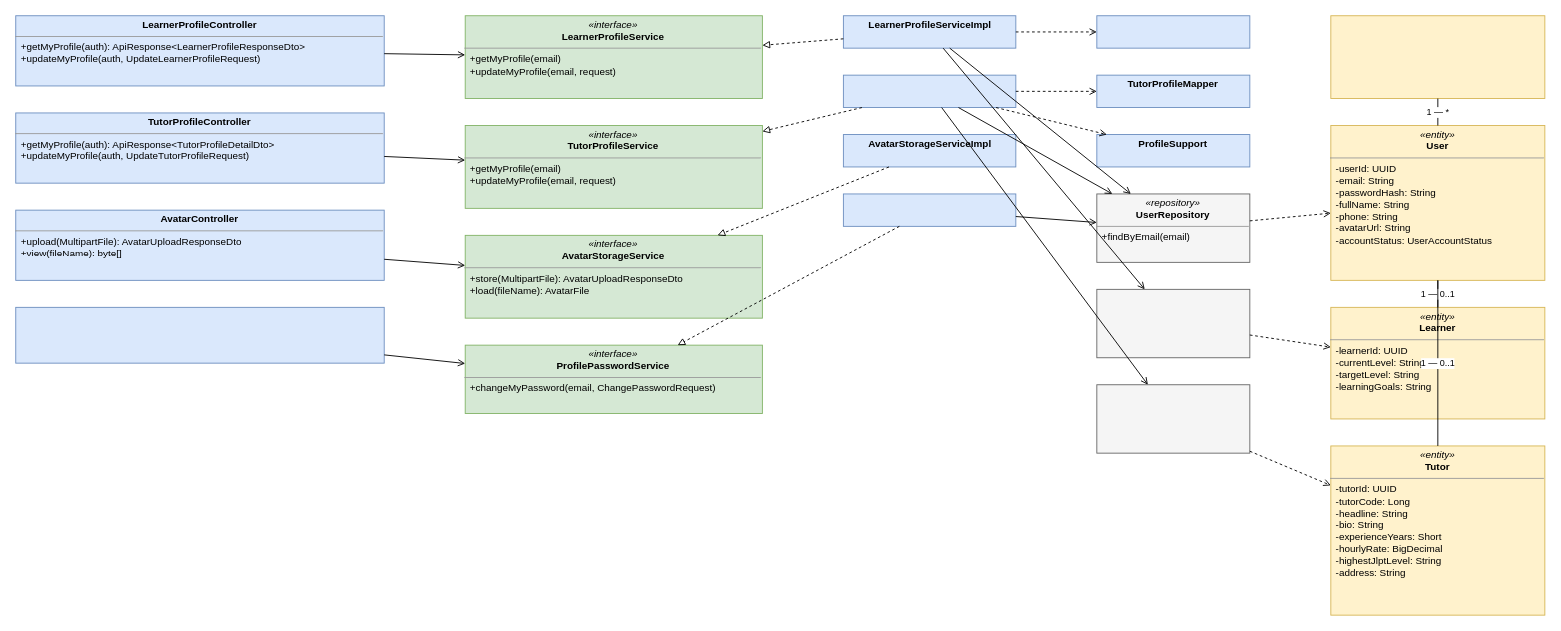
Some shapes in this 1561 by 631 pixel diagram are drawn without their labels. The shapes that lost their labels are listed below. From the top down, each one's centre as x and y in pixels, then its label:
At (x=1173, y=31): "LearnerProfileMapper".
At (x=1437, y=57): "«entity» Role -roleId: UUID -name: RoleEnum".
At (x=929, y=91): "TutorProfileServiceImpl".
At (x=929, y=209): "ProfilePasswordServiceImpl".
At (x=199, y=334): "ProfilePasswordController +changeMyPassword(auth, ChangePasswordRequest)".
At (x=1173, y=323): "«repository» LearnerRepository +findByUser_UserId(id)".
At (x=1173, y=418): "«repository» TutorRepository +findByUser_UserId(id)".
